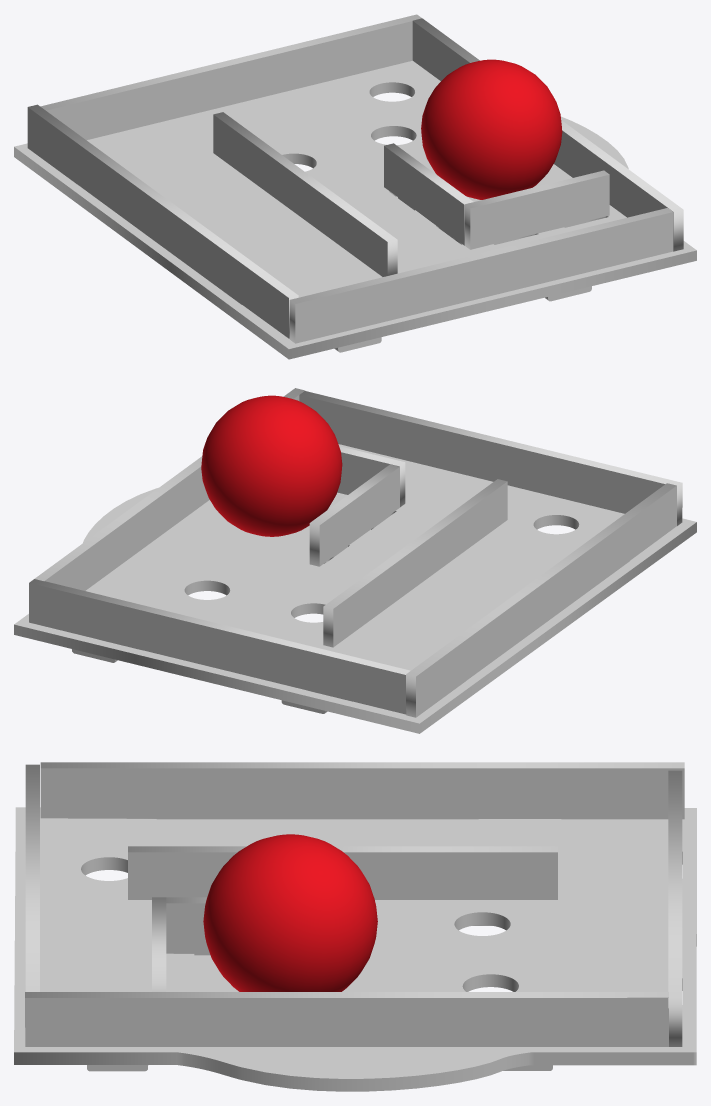
The model's file is labirent.glb.
3 views of the same model, one above another, from view 1: azimuth 30°, elevation 25°; view 2: azimuth 150°, elevation 25°; view 3: azimuth 270°, elevation 25° (orthographic). The views are drawn at different scales.
Visible parts, largest first — view 1: parca_01, parca_04, parca_06, parca_10, parca_02, parca_07, parca_08, parca_03, parca_09; view 2: parca_01, parca_06, parca_10, parca_04, parca_02, parca_07, parca_03, parca_09, parca_08; view 3: parca_01, parca_02, parca_03, parca_10, parca_07, parca_06, parca_04, parca_09, parca_08.
Boxes of the visible parts, <box> form: parca_01: <box>14,60,696,359</box>; parca_04: <box>289,208,673,352</box>; parca_06: <box>40,14,421,140</box>; parca_10: <box>421,59,562,199</box>; parca_02: <box>27,104,298,338</box>; parca_07: <box>213,112,397,276</box>; parca_08: <box>464,170,609,249</box>; parca_03: <box>412,18,683,251</box>; parca_09: <box>384,143,473,245</box>; parca_01: <box>14,444,696,733</box>; parca_06: <box>29,579,410,714</box>; parca_10: <box>201,395,342,536</box>; parca_04: <box>299,391,682,525</box>; parca_02: <box>406,483,676,717</box>; parca_07: <box>323,479,507,647</box>; parca_03: <box>34,388,305,590</box>; parca_09: <box>309,464,399,566</box>; parca_08: <box>337,446,405,507</box>; parca_01: <box>14,807,696,1091</box>; parca_02: <box>40,762,684,819</box>; parca_03: <box>25,992,668,1071</box>; parca_10: <box>203,834,377,991</box>; parca_07: <box>128,846,557,925</box>; parca_06: <box>668,770,682,1046</box>; parca_04: <box>25,764,39,991</box>; parca_09: <box>166,897,210,955</box>; parca_08: <box>152,897,166,991</box>.
Size of the model in its own units: 0.1827 by 0.0564 by 0.1941.
